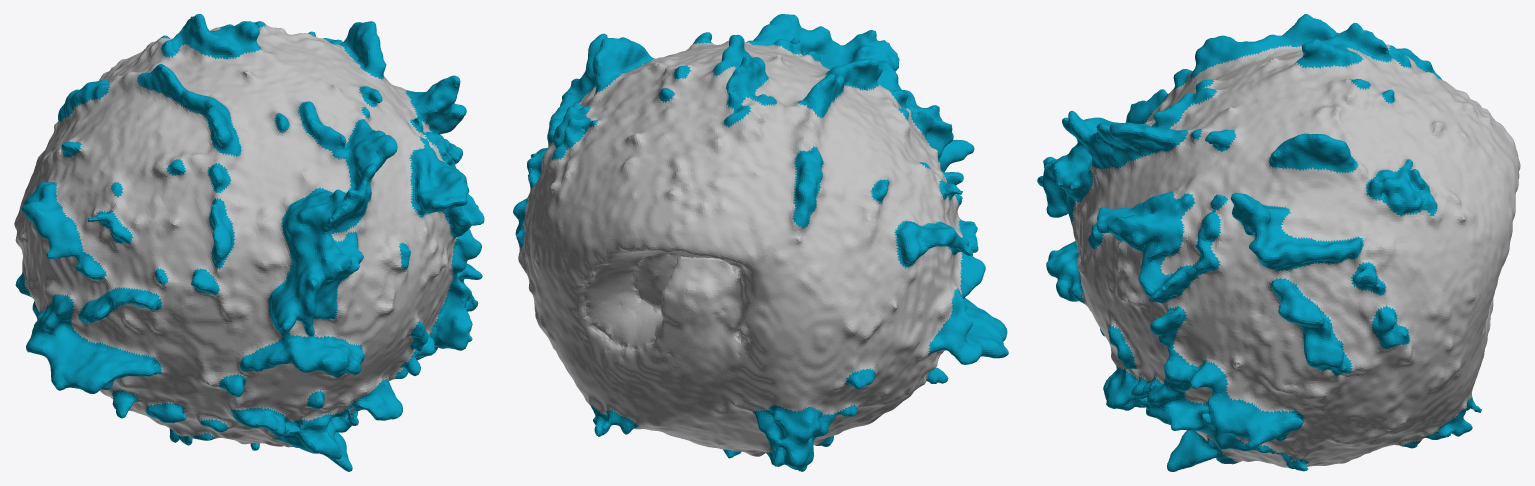
3 views of the same model, side by side, from view 1: azimuth 30°, elevation 25°; view 2: azimuth 150°, elevation 25°; view 3: azimuth 270°, elevation 25° (orthographic). The views are drawn at different scales.
Size of the model in its own units: 161 by 146 by 151.
